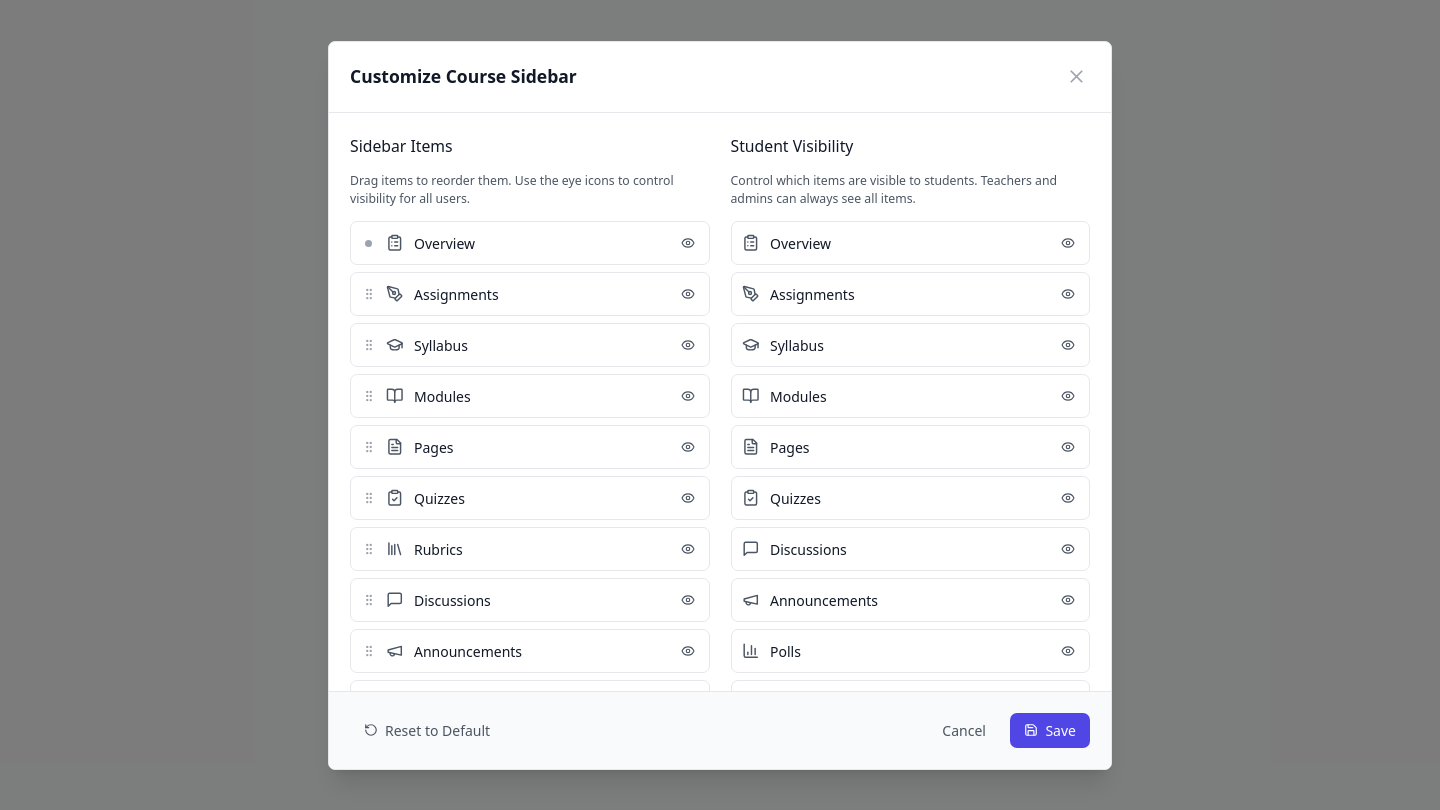
Scenario: SidebarConfigModal › should reset to defaults
Click the text "Reset to Default".
click(438, 730)  # box [385,720,490,740]
(page scrolled)
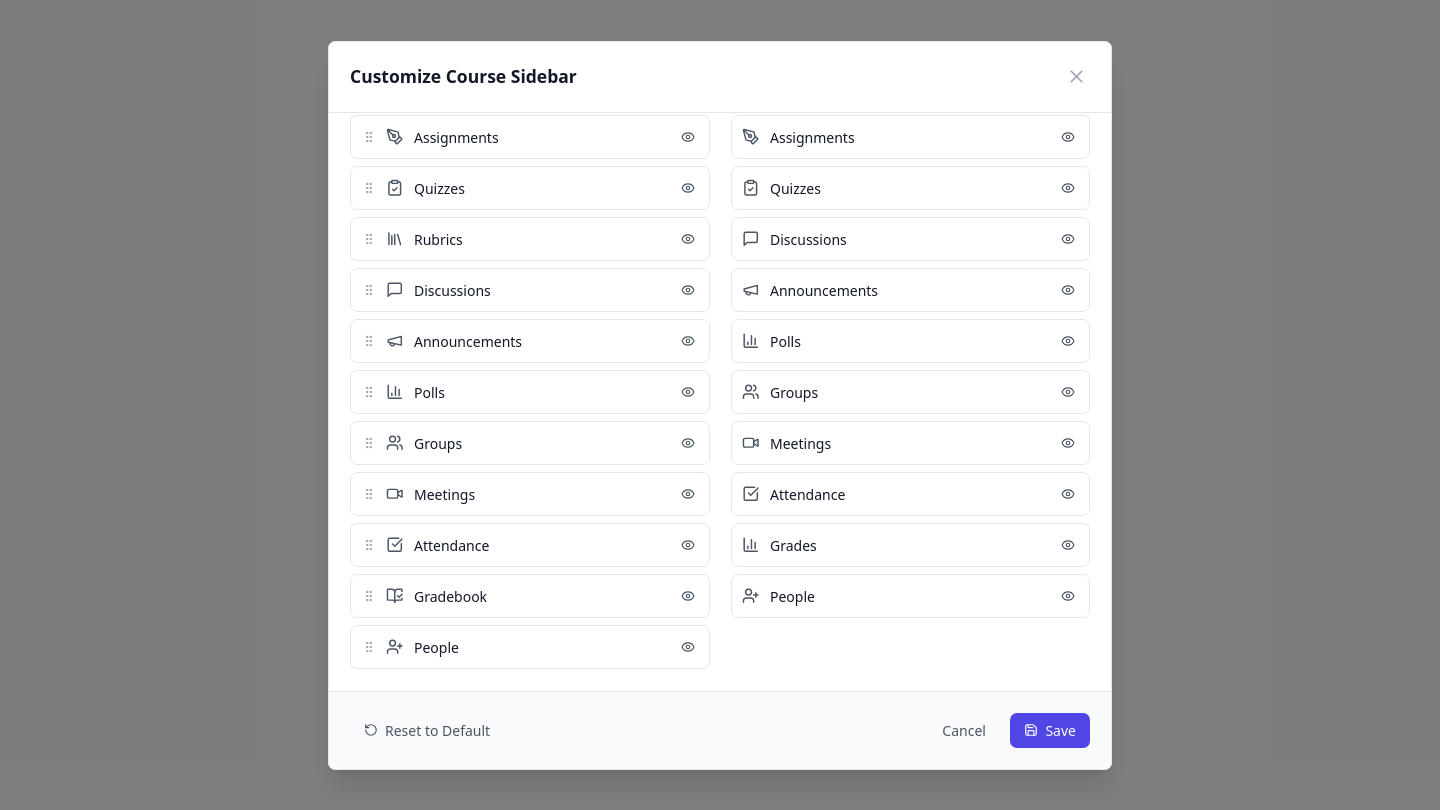
Result: the text "Meetings" below "Rubrics" is shown at [414,484,475,504]
